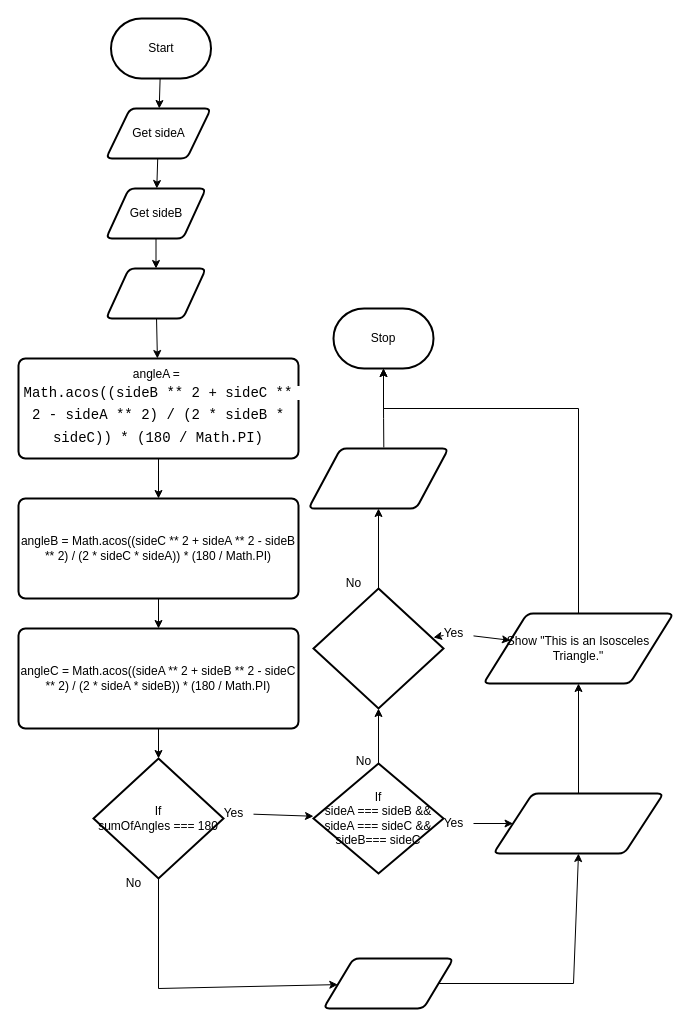
Some shapes in this 691 by 1026 pixel diagram are drawn without their labels. The box of each missing label's shape, as (x1, y1, x2, y2) in pixels:
Get sideC: (104, 267, 206, 319)
If sideA === sideB || sideA === sideC || sideB === sideC: (312, 587, 444, 709)
Show "This is an Equilateral Triangle.": (492, 792, 664, 854)
Show "This is an Scalene Triangle.": (307, 447, 449, 509)
Show "This is not a triangle.": (322, 957, 454, 1009)
